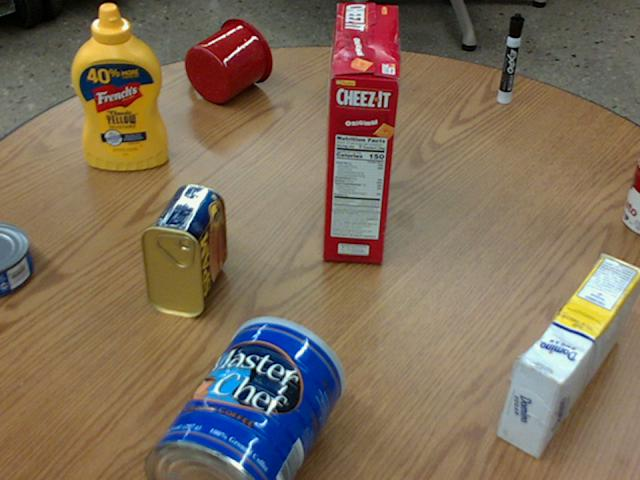cracker_box: (319, 4, 397, 262)
gelatin_box: (342, 22, 368, 99)
large_marker: (497, 14, 523, 102)
master_chef_can: (144, 316, 344, 479)
mug: (184, 17, 272, 102)
mustard_bottle: (71, 4, 166, 169)
potted_meat_can: (139, 183, 224, 317)
sugar_box: (497, 254, 639, 459)
tomato_soup_can: (620, 144, 639, 235)
tuna_fish_can: (0, 221, 33, 294)
